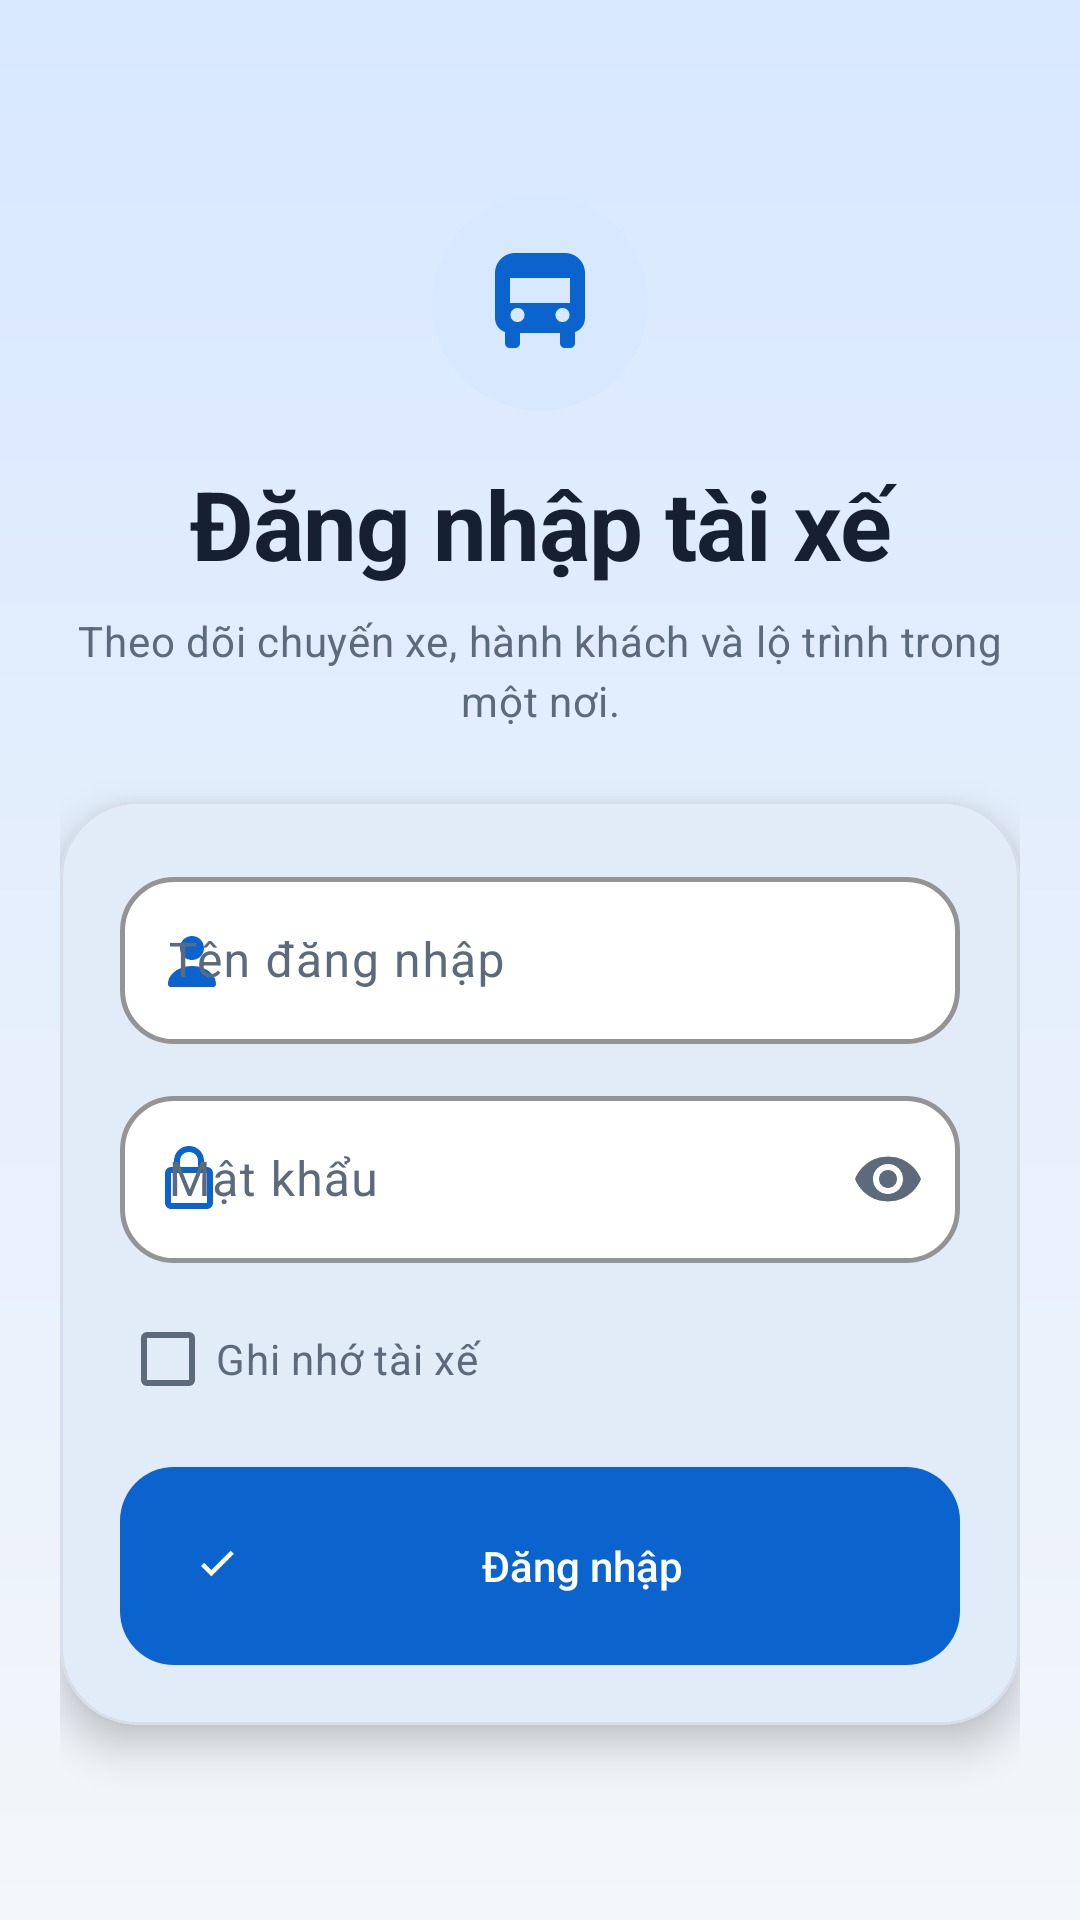

Point at icon controls on the screen. Image size 1080*1920, points as [x,y].
bus: [540,300]
